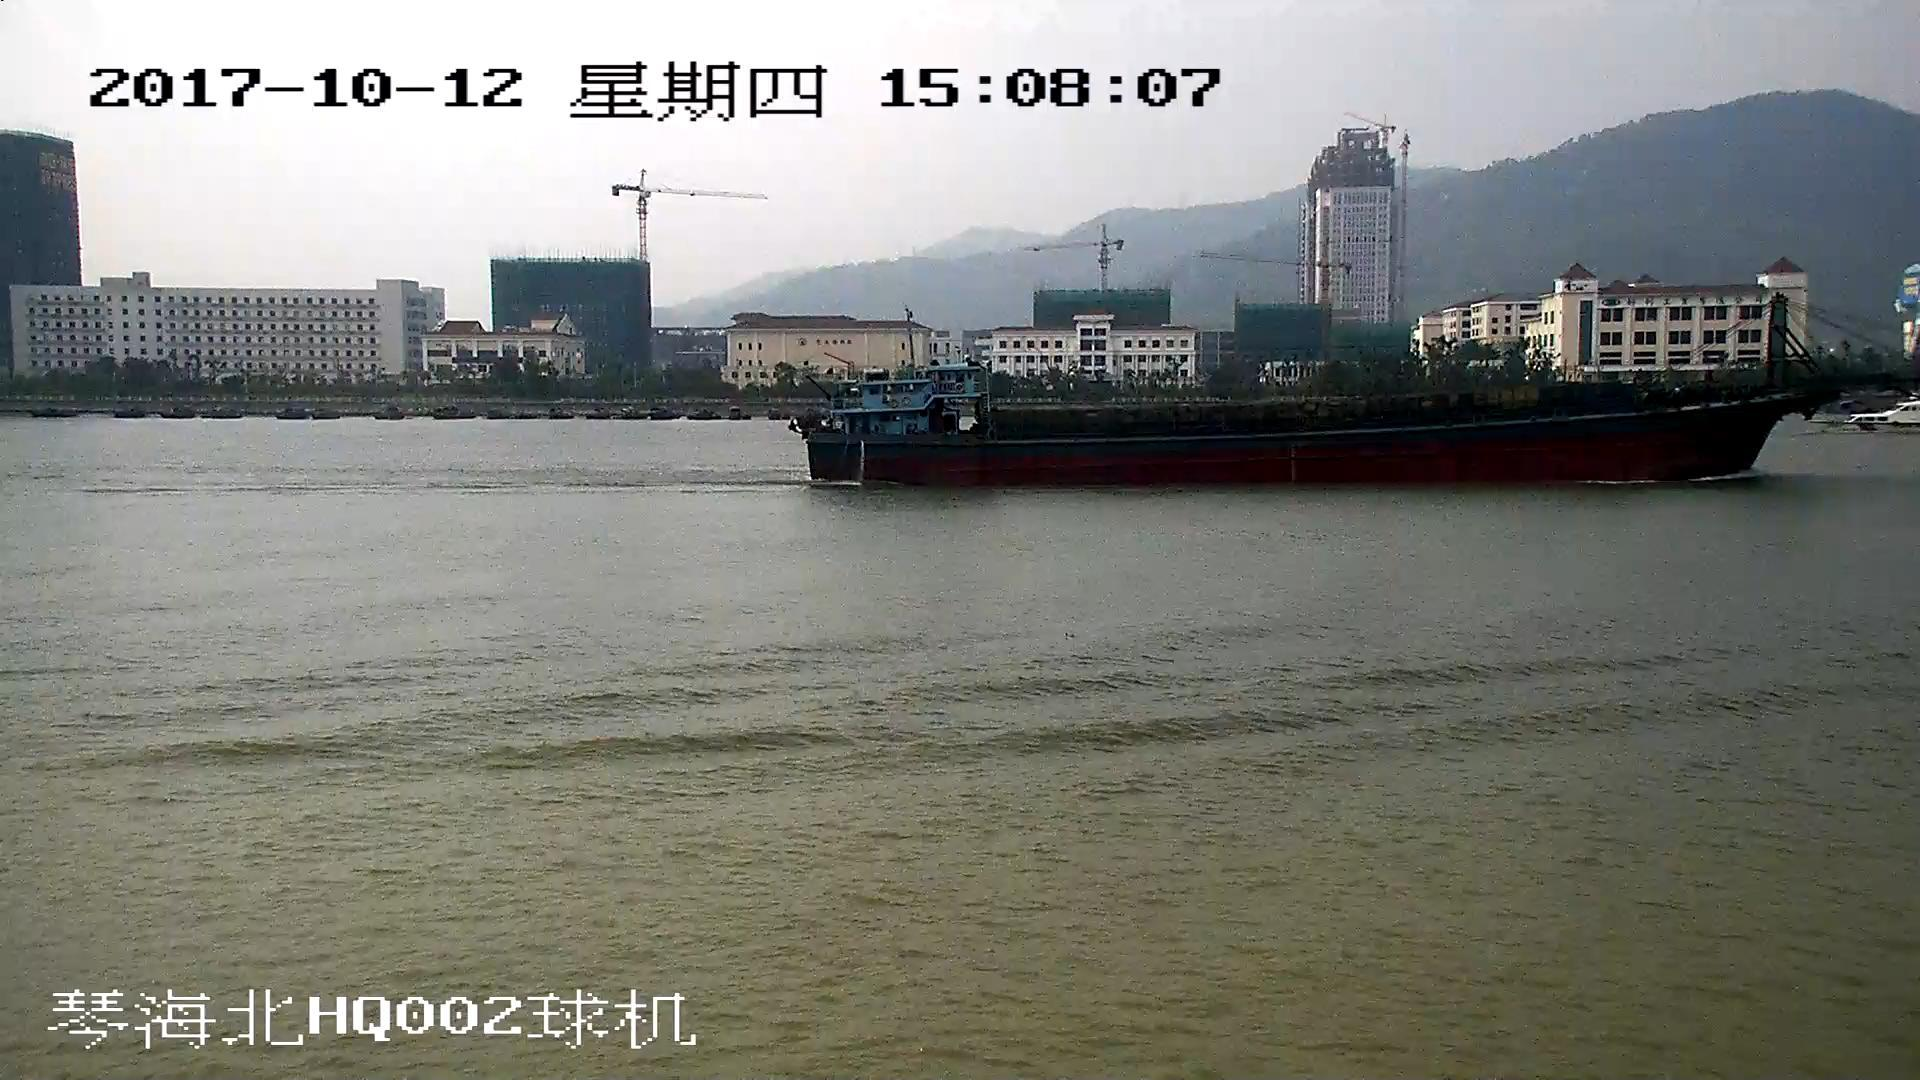Ship: (795, 295, 1920, 483)
